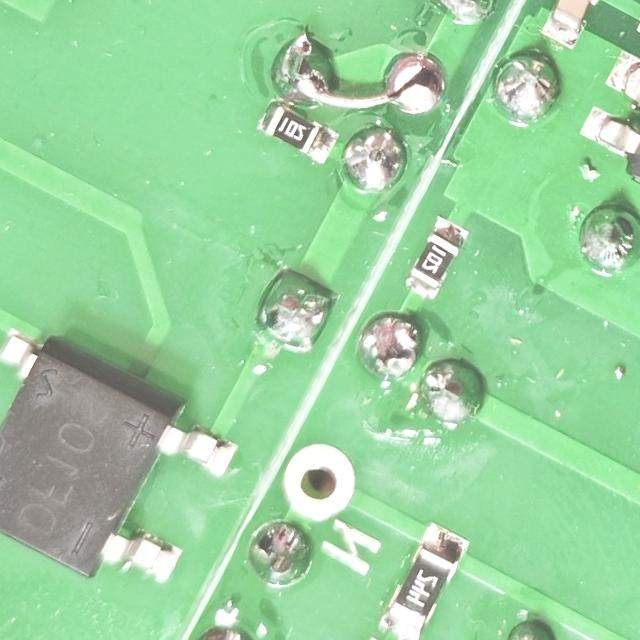chip-capacitor: (533, 0, 612, 54)
chip-resistor: (371, 516, 474, 640), (251, 92, 345, 169), (397, 210, 472, 305)
ic: (0, 309, 253, 622)
